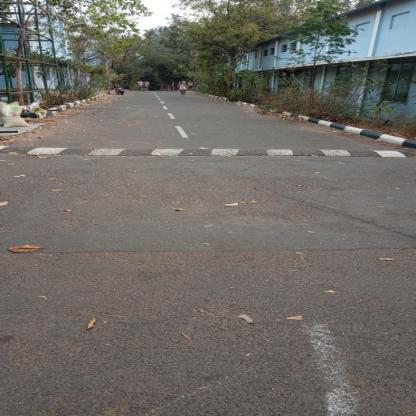speed-bumps: (4, 140, 412, 162)
